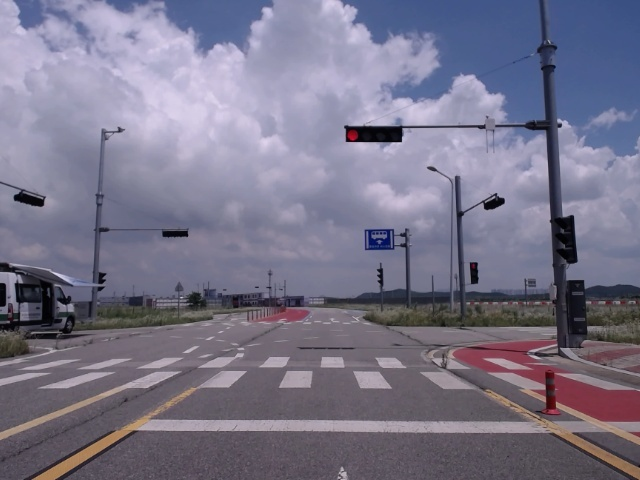red_4: (346, 128, 402, 142)
